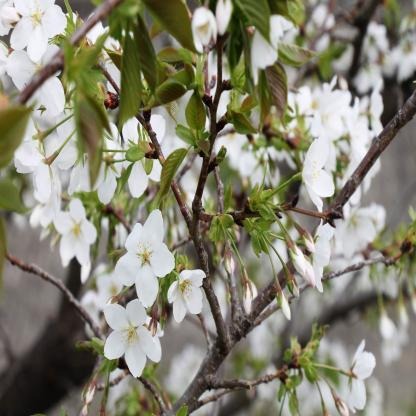OshimaSakura: (1, 2, 414, 416)
